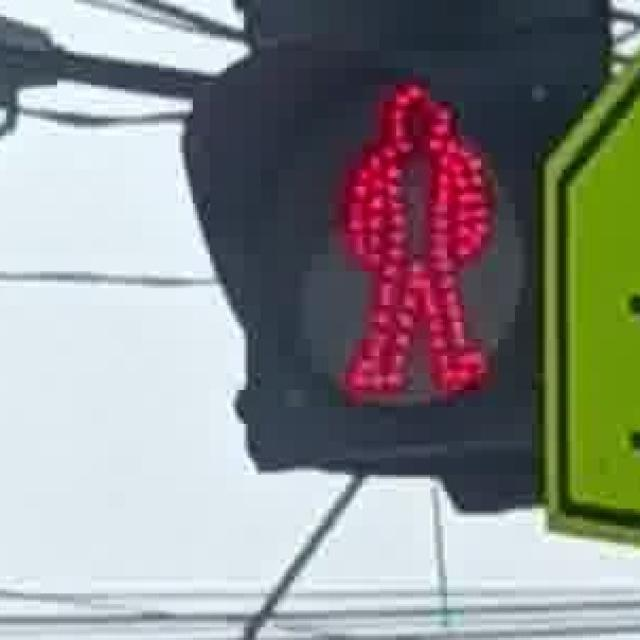red-light: (313, 52, 514, 418)
